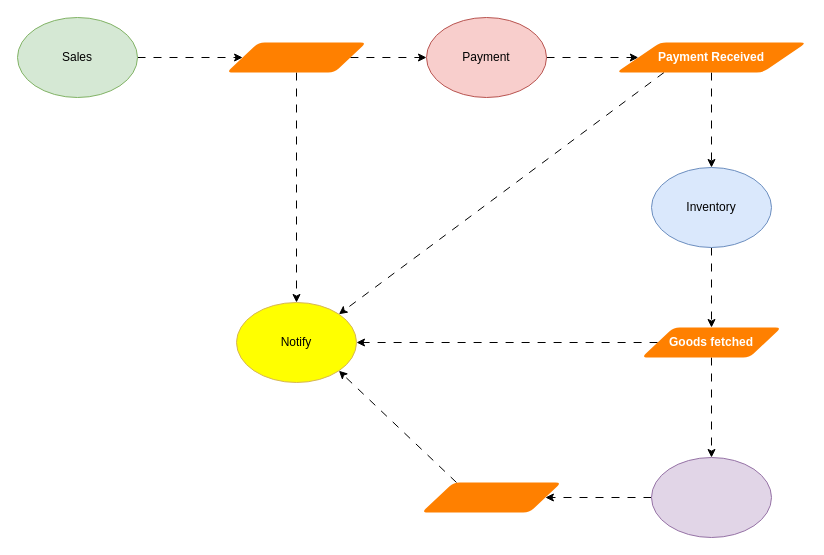
The diagram is 824 pixels wide and 555 high, and some of its shapes have lost their labels. Here are the shapes that lost their labels. From the top down, the centre of each, then its label:
(x=296, y=57): Order Planced
(x=491, y=497): Goods shipped
(x=711, y=497): Shipping
